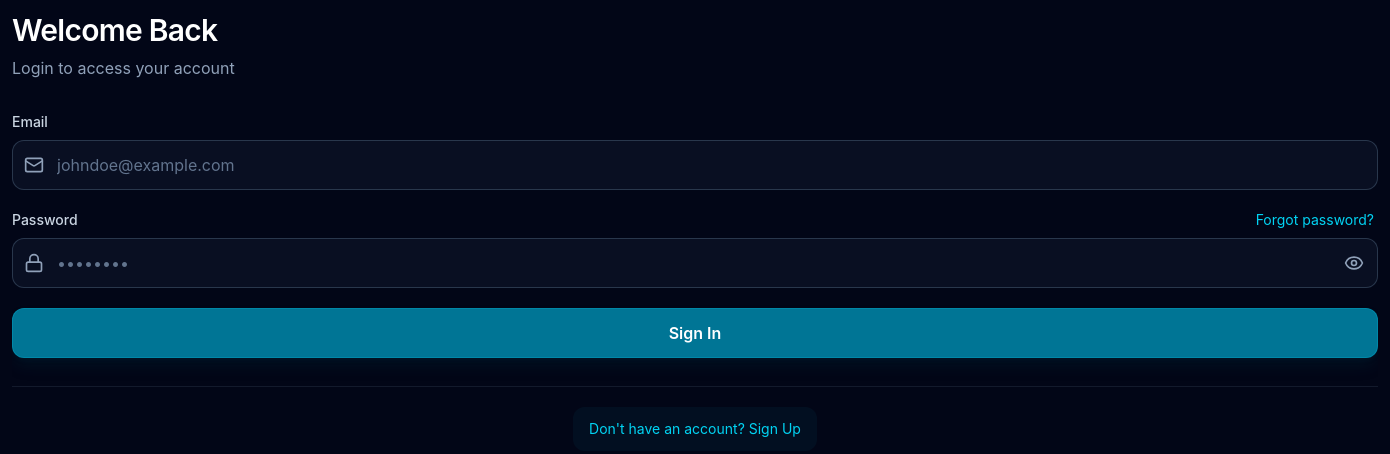
LoginForm password visibility › can show the password while typing it
The width and height of the screenshot is (1390, 454).
In the password field labelled "Password": [695, 263] box [12, 238, 1378, 288], type "secret phrase"
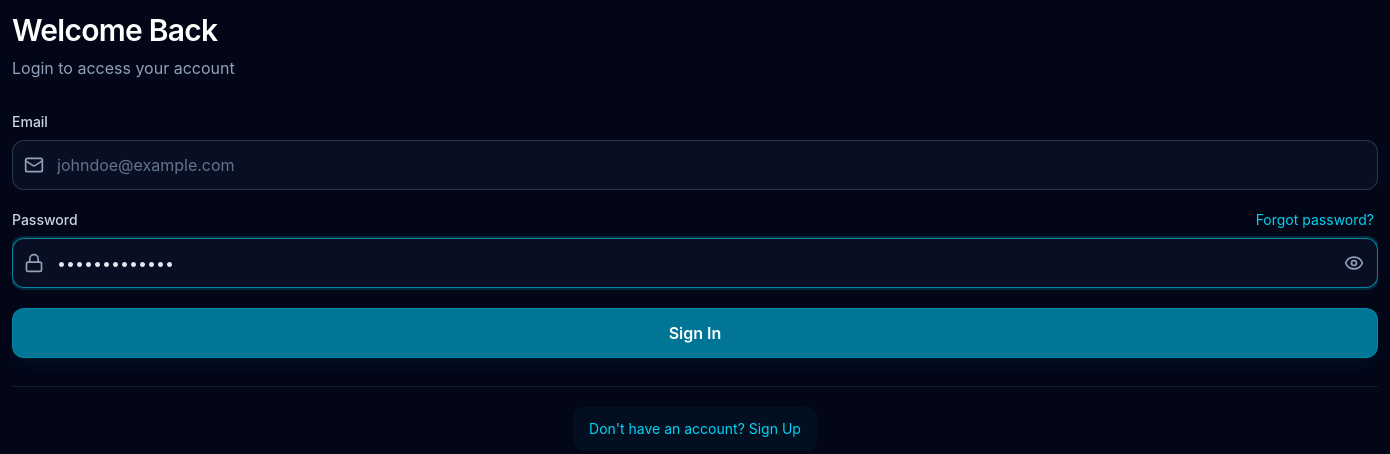
Click the button named "Show password": [1354, 263] box [1334, 243, 1374, 283]
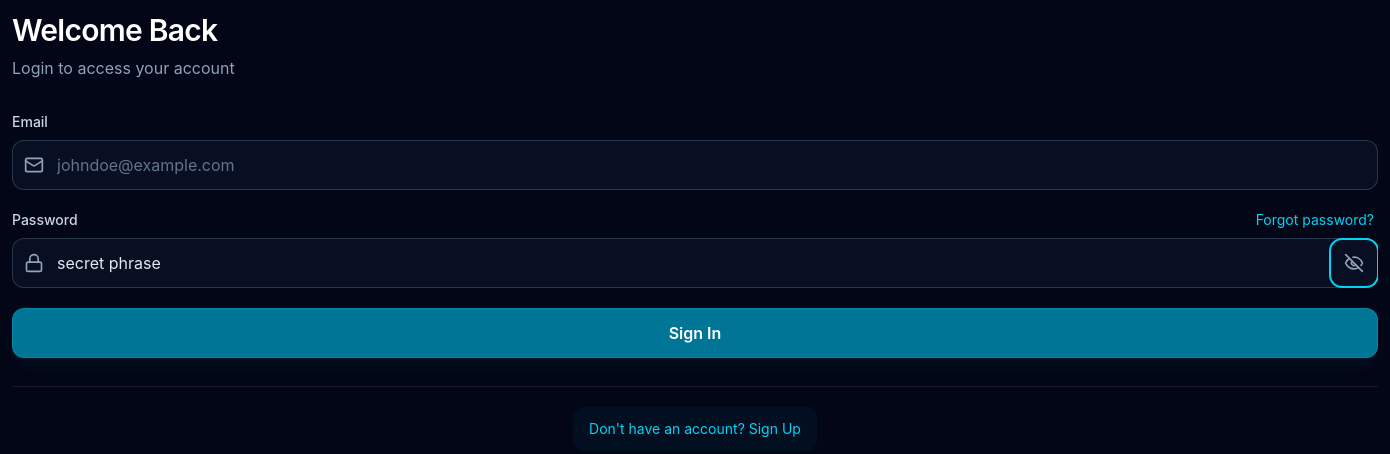
Result: the field labelled "Password" shows its text at [12, 238, 1378, 288]
Click the button named "Hide password": [1354, 263] box [1334, 243, 1374, 283]
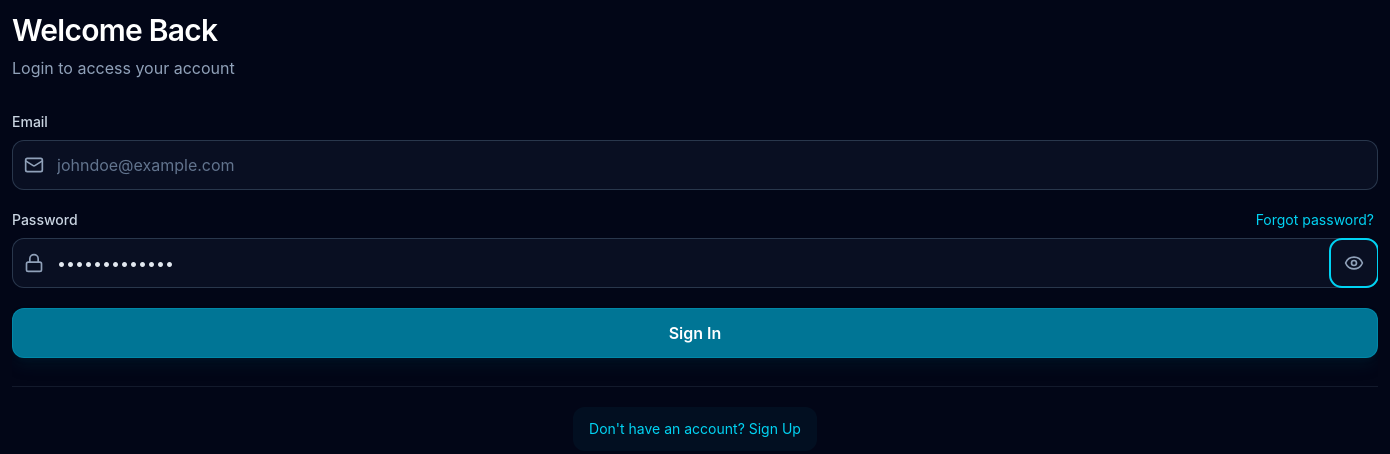
Result: the password field labelled "Password" hides its text at [12, 238, 1378, 288]
